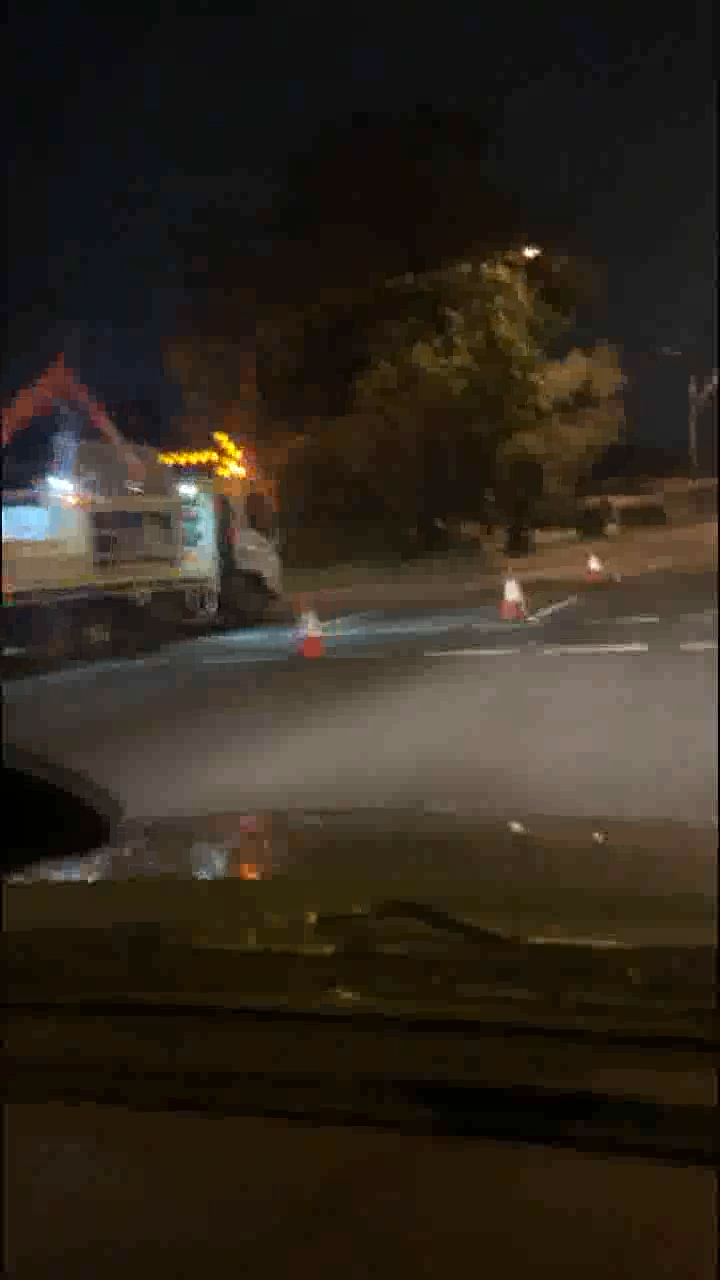road cone: (497, 561, 524, 629)
truck: (1, 344, 277, 657)
